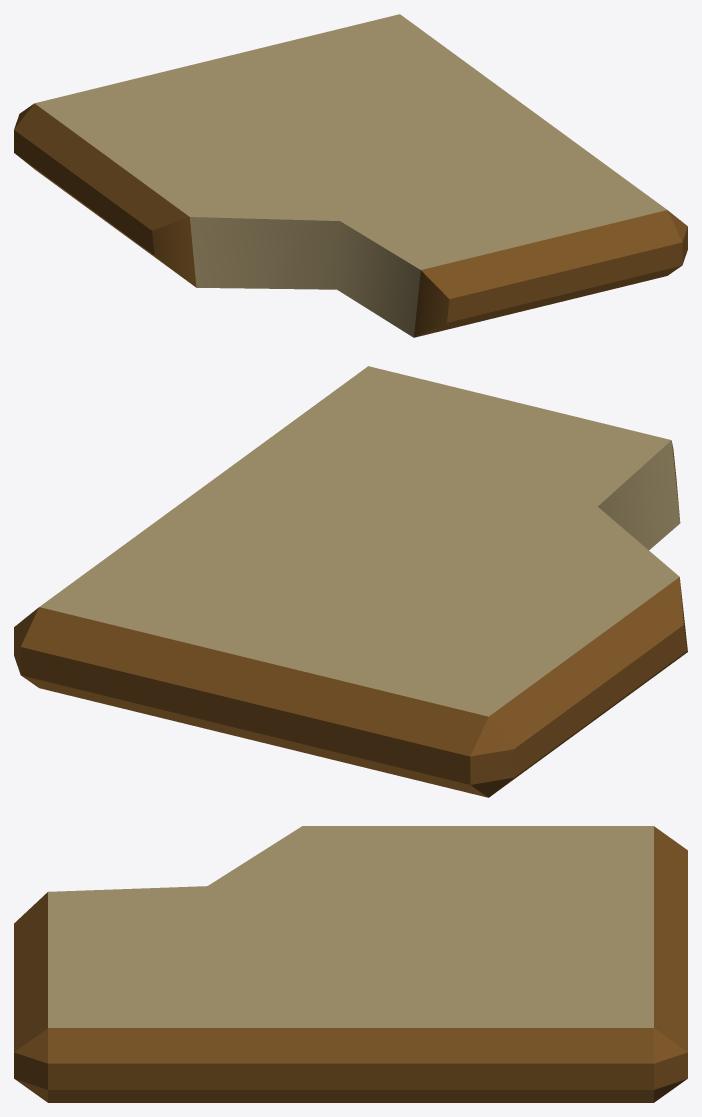
File: bread.fbx
The picture shows the model from 3 angles, top to bottom: view 1: azimuth 30°, elevation 25°; view 2: azimuth 150°, elevation 25°; view 3: azimuth 270°, elevation 25°; orthographic projection. The views are drawn at different scales.
Visible parts, largest first — view 1: Cube163; view 2: Cube163; view 3: Cube163.
Boxes of the visible parts, <box> form: Cube163: <box>14,14,687,337</box>; Cube163: <box>14,366,687,797</box>; Cube163: <box>14,826,687,1102</box>.
Bounding box in the file's own units: 200 × 31.02 × 254.
